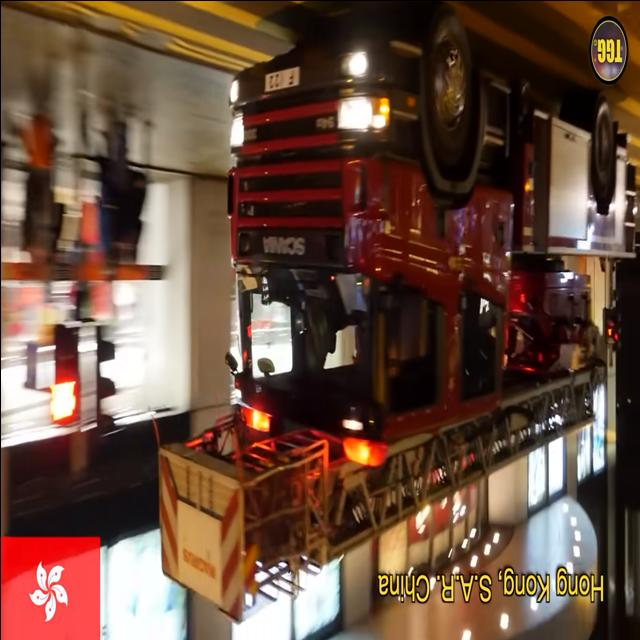emergency-vehicles: (156, 14, 630, 626)
